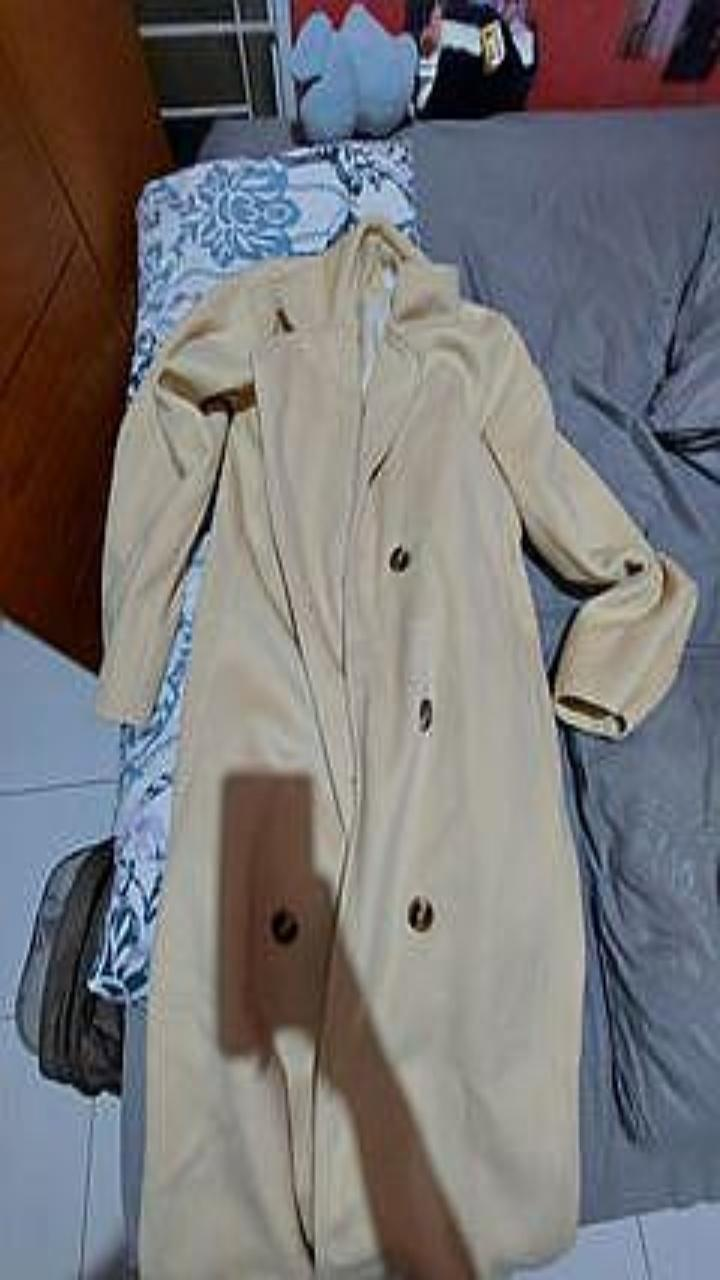Coat: (98, 220, 696, 1279)
